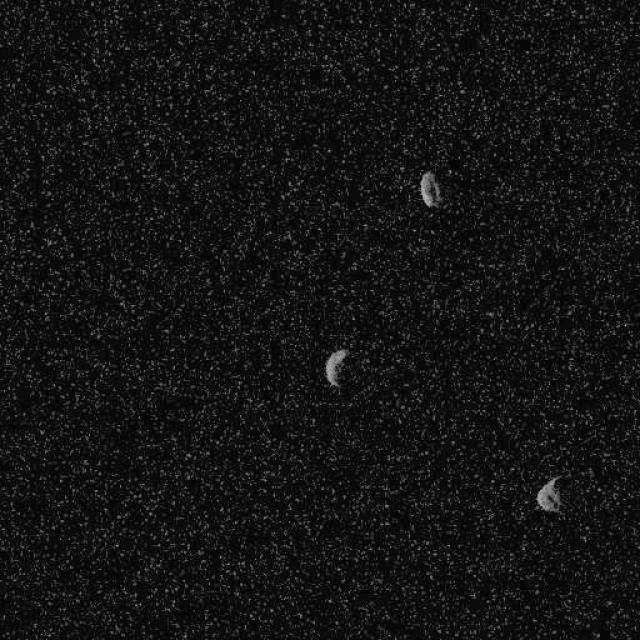D2: (535, 474, 563, 514), (323, 348, 348, 388), (418, 170, 442, 208)
